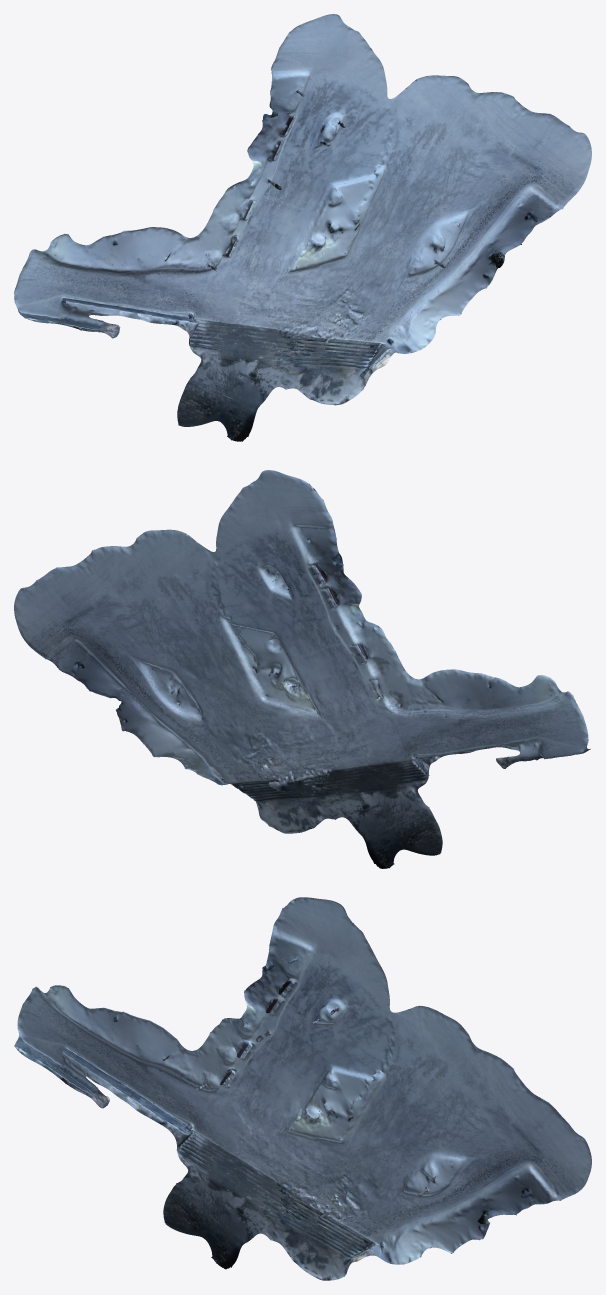
File: inno.obj
3 views of the same model, one above another, from view 1: azimuth 30°, elevation 25°; view 2: azimuth 150°, elevation 25°; view 3: azimuth 330°, elevation 25° (orthographic). The views are drawn at different scales.
Bounding box in the file's own units: 62.52 × 40.32 × 3.23.
Materials: 3 (3 with a texture image).
